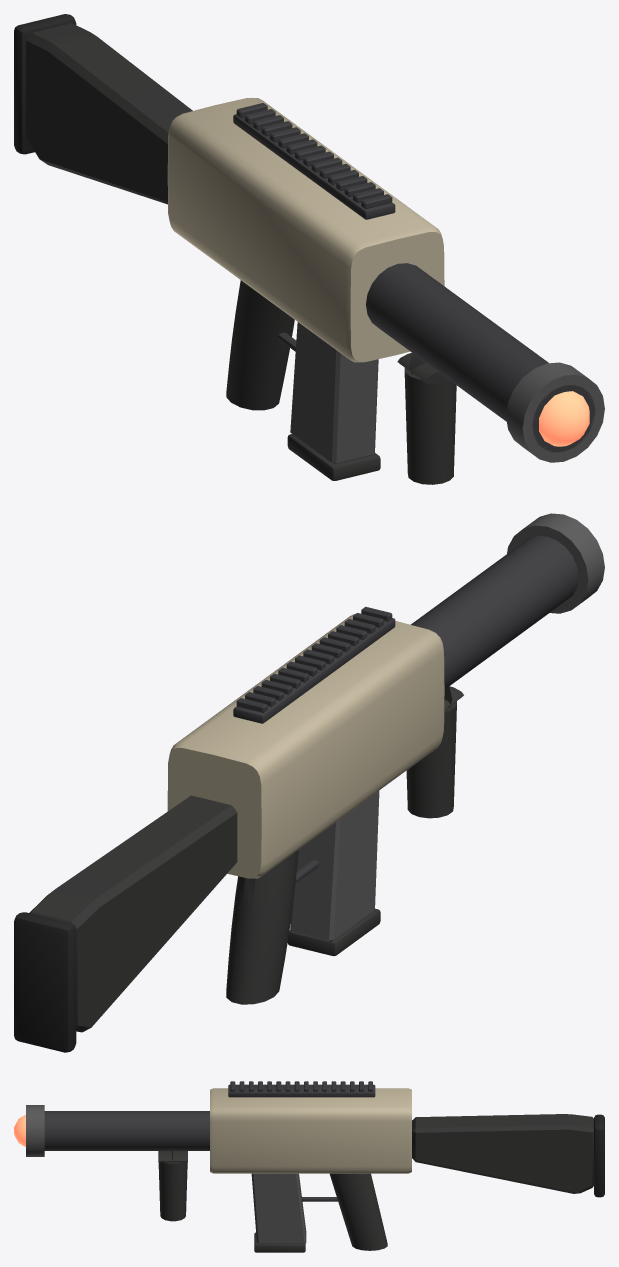
Rendered from limpetgun.glb.
The picture shows the model from 3 angles, top to bottom: view 1: azimuth 30°, elevation 25°; view 2: azimuth 150°, elevation 25°; view 3: azimuth 270°, elevation 25°; orthographic projection. The views are drawn at different scales.
Parts seen in each view (by area): view 1: Body; view 2: Body; view 3: Body.
Boxes of the visible parts, <box> form: Body: <box>14,14,604,484</box>; Body: <box>14,513,604,1052</box>; Body: <box>14,1081,604,1252</box>.
Bounding box in the file's own units: 0.068 × 0.1944 × 0.6432.
